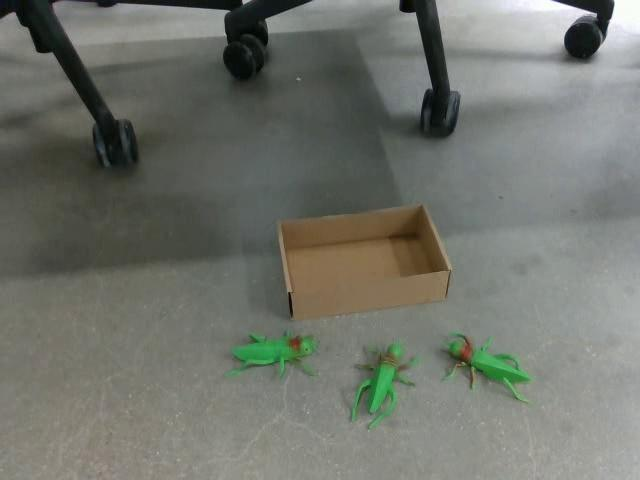box: (276, 202, 453, 321)
grasshopper: (440, 331, 531, 403), (348, 339, 417, 430), (223, 328, 319, 379)
